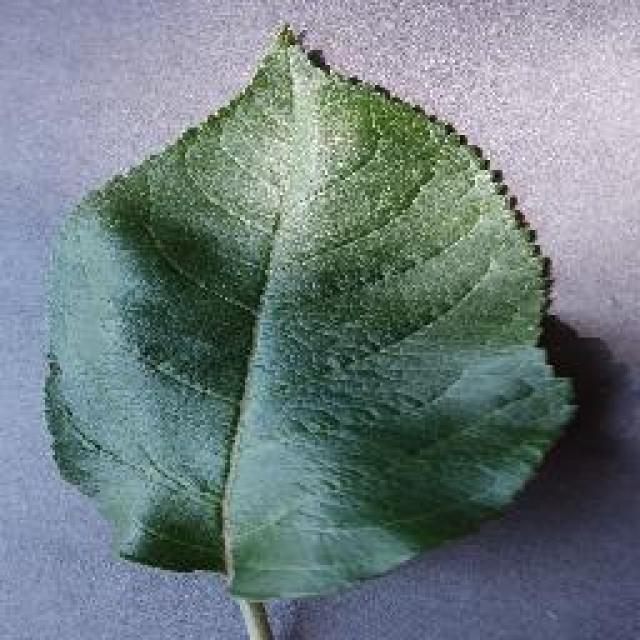Apple___healthy: (30, 7, 587, 640)
